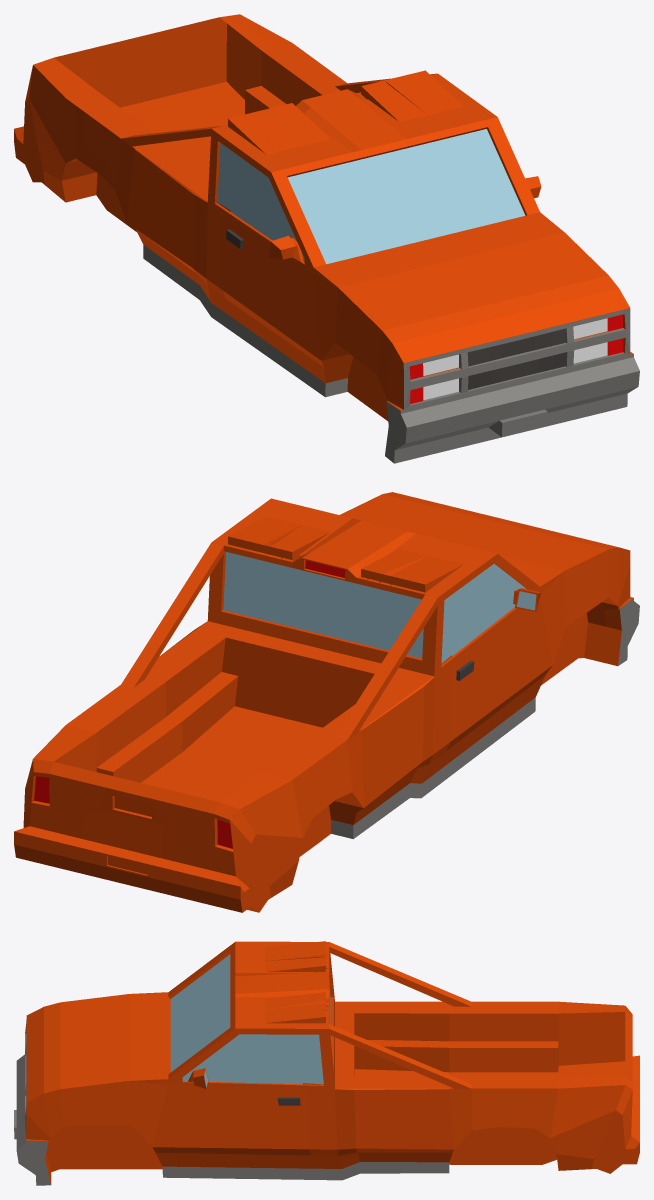
File: Carbody.gltf
3 renders of one model, top to bottom at view 1: azimuth 30°, elevation 25°; view 2: azimuth 150°, elevation 25°; view 3: azimuth 270°, elevation 25°, orthographic. The views are drawn at different scales.
Parts seen in each view (by area): view 1: lowpoly:carbody; view 2: lowpoly:carbody; view 3: lowpoly:carbody.
Boxes of the visible parts, x1,y1,x2,y2 form: lowpoly:carbody: [14, 14, 639, 463]; lowpoly:carbody: [14, 492, 639, 912]; lowpoly:carbody: [14, 941, 639, 1185].
Size of the model in its own units: 0.0436 by 0.0321 by 0.1123.
Materials: 1 (1 with a texture image).
